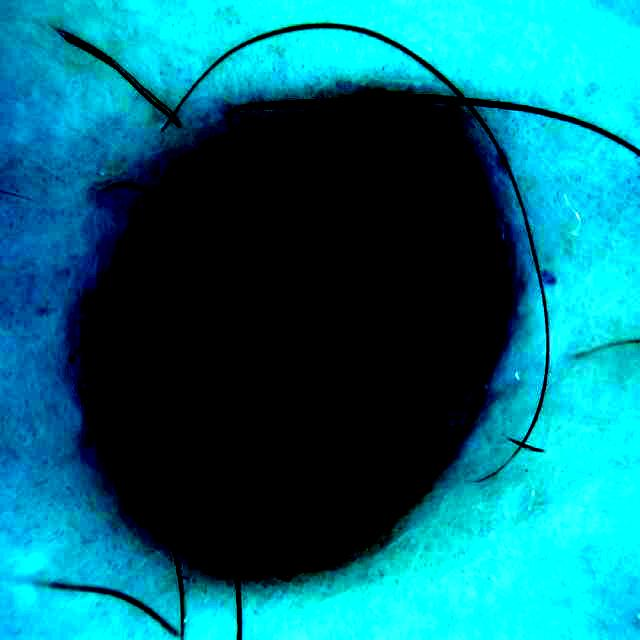BKL: (103, 102, 507, 567)
